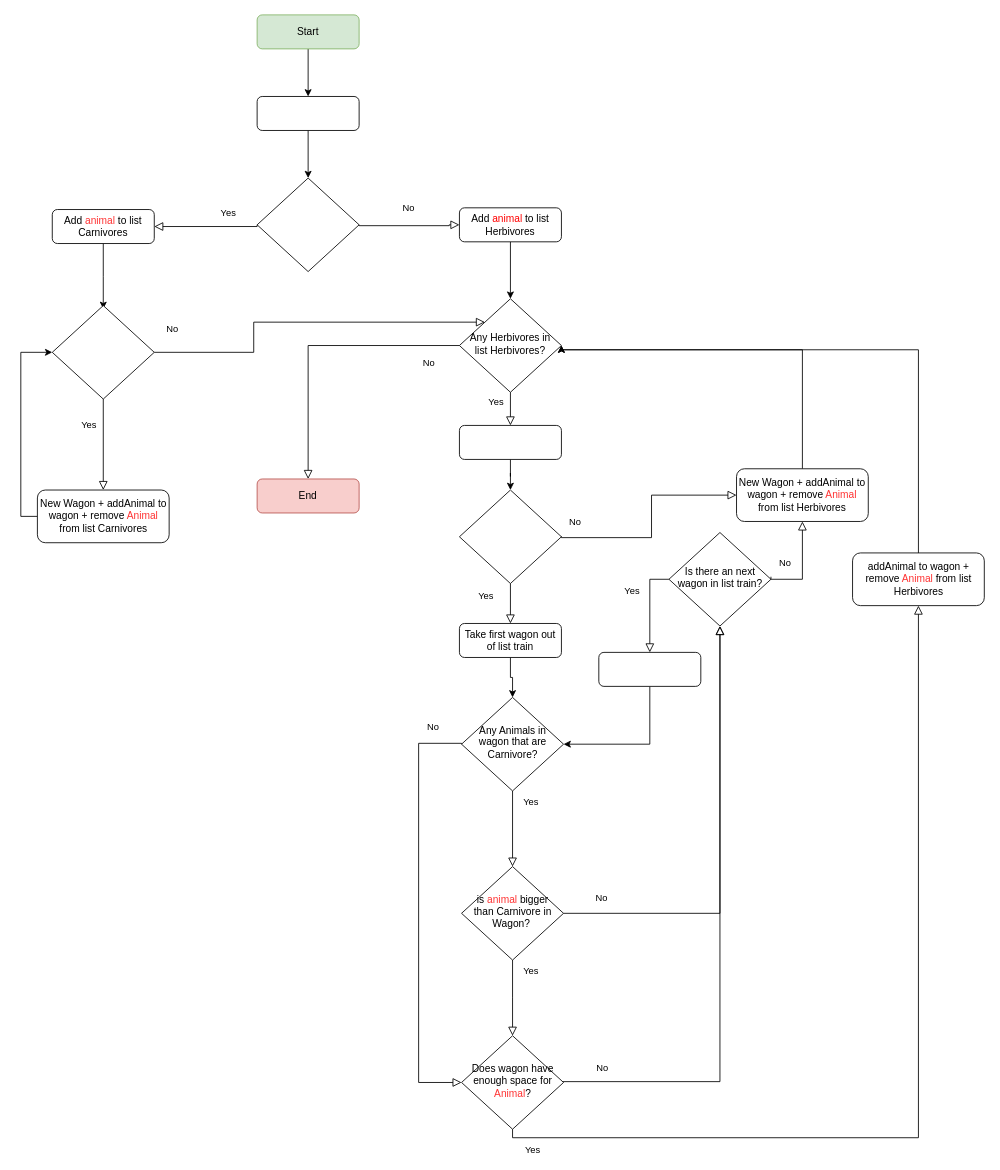
Some shapes in this 1000 by 1170 pixel diagram are drawn without their labels. The shapes that lost their labels are listed below. From the top down, each one's centre as x and y in pixels, then its label:
the point at 307,113: Add animals to list animals
the point at 307,224: Is animal in list animals a carnivore?
the point at 102,352: Any Carnivores in list Carnivores?
the point at 510,442: Take first animal out of list Herbivores
the point at 510,536: Any wagons available in list train?
the point at 649,669: Take next wagon in list train
